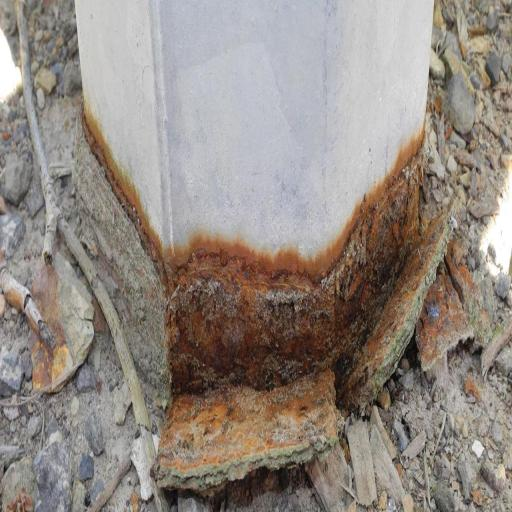segmentation: (83, 110, 460, 416), (72, 112, 171, 406), (155, 369, 338, 491), (416, 244, 491, 369)
